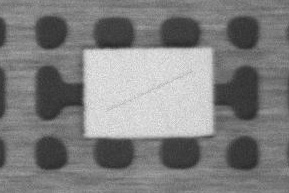DIE_CRACK: (157, 47, 288, 74)
